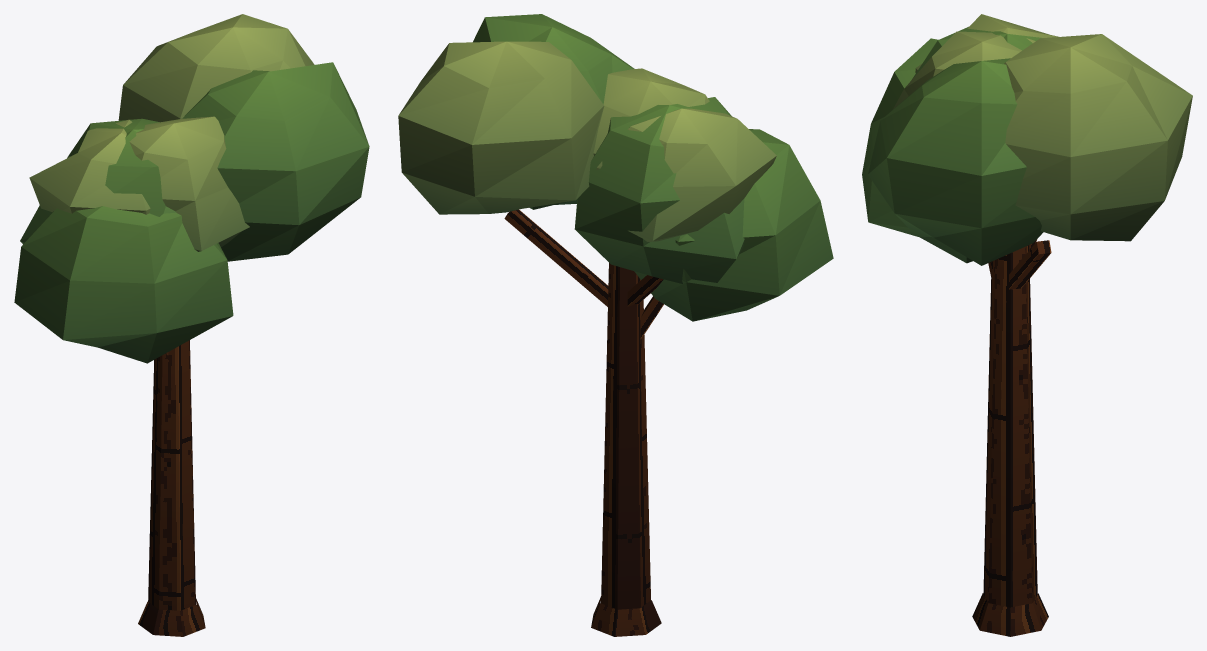
The model's file is birch_3_lowpoly.glb.
3 views of the same model, side by side, from view 1: azimuth 30°, elevation 25°; view 2: azimuth 150°, elevation 25°; view 3: azimuth 270°, elevation 25° (orthographic). The views are drawn at different scales.
Visible parts, largest first — view 1: birch_3_lowpoly; view 2: birch_3_lowpoly; view 3: birch_3_lowpoly.
Part boxes in pixels (<box>): birch_3_lowpoly: <box>14,14,369,636</box>; birch_3_lowpoly: <box>398,14,833,636</box>; birch_3_lowpoly: <box>862,14,1192,636</box>.
Size of the model in its own units: 3.88 by 6.26 by 3.03.
Materials: 2 (1 with a texture image).
